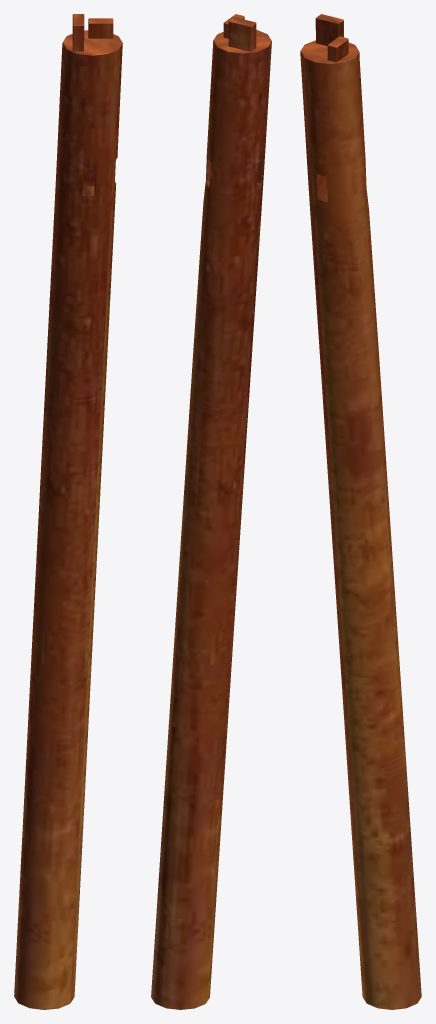
File: ytsy_J_tuii_4.FBX
The picture shows the model from 3 angles, left to right: view 1: azimuth 90°, elevation 25°; view 2: azimuth 150°, elevation 25°; view 3: azimuth 330°, elevation 25°; orthographic projection. The views are drawn at different scales.
Visible parts, largest first — view 1: ytsy_J_tuii_4; view 2: ytsy_J_tuii_4; view 3: ytsy_J_tuii_4.
Boxes of the visible parts, box(x1,y1,x2,y2) form: ytsy_J_tuii_4: box(14, 14, 122, 1009); ytsy_J_tuii_4: box(151, 14, 271, 1009); ytsy_J_tuii_4: box(300, 14, 421, 1009).
Size of the model in its own units: 7.35 by 76.63 by 7.55.
